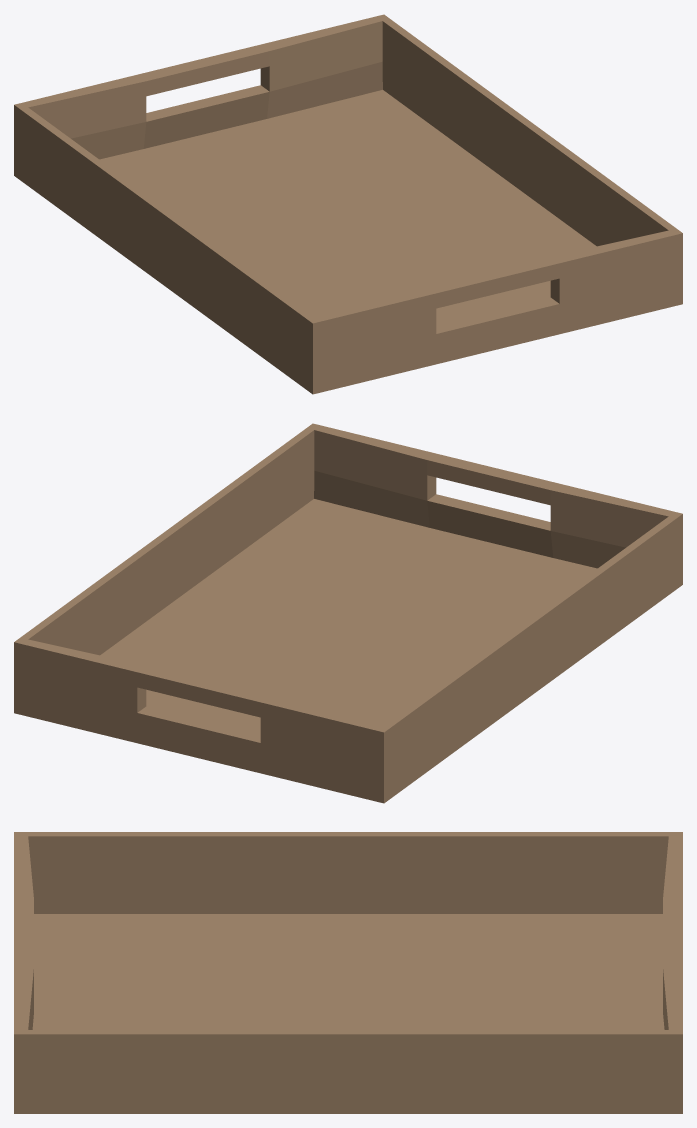
Rendered from tea_tray.fbx.
3 renders of one model, top to bottom at view 1: azimuth 30°, elevation 25°; view 2: azimuth 150°, elevation 25°; view 3: azimuth 270°, elevation 25°, orthographic. The views are drawn at different scales.
Visible parts, largest first — view 1: Cube; view 2: Cube; view 3: Cube.
Part boxes in pixels (<box>): Cube: <box>14,14,682,394</box>; Cube: <box>14,423,682,803</box>; Cube: <box>14,832,682,1113</box>.
Bounding box in the file's own units: 615 × 113 × 861.
